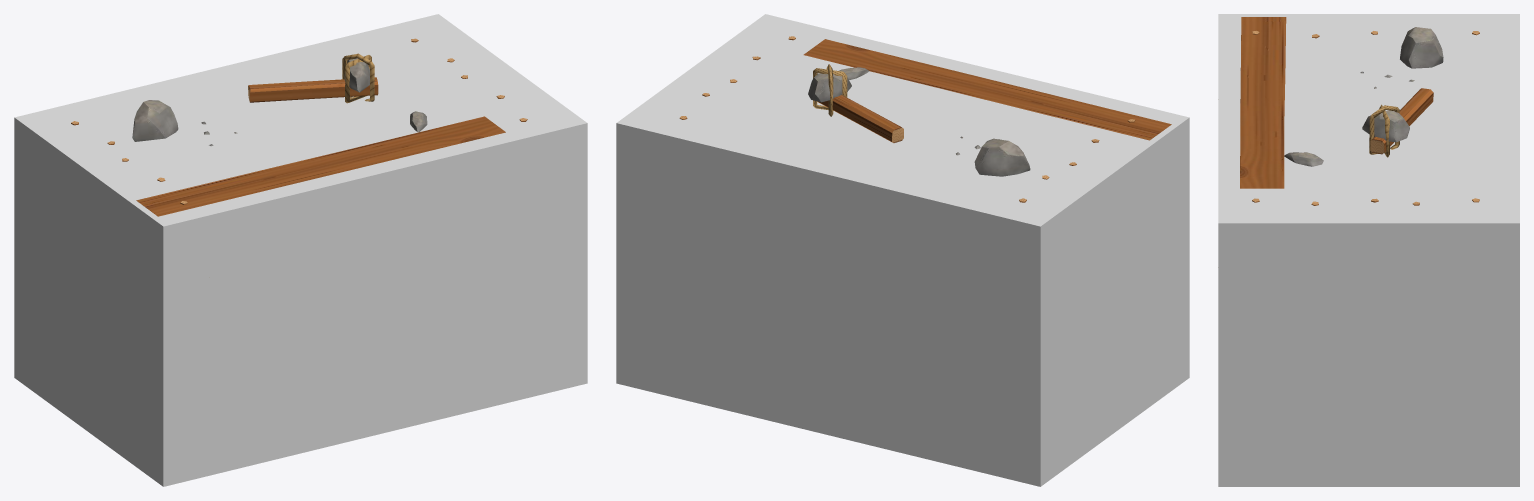
Rendered from IO_Workbench_A.glb.
The picture shows the model from 3 angles, left to right: view 1: azimuth 30°, elevation 25°; view 2: azimuth 150°, elevation 25°; view 3: azimuth 270°, elevation 25°; orthographic projection.
Visible parts, largest first — view 1: IO_Workbench_A_COL, IO_Workbench_A_LOD0, IO_Workbench_A_Prop_StoneHammer, IO_Workbench_A_Prop_StoneChunk; view 2: IO_Workbench_A_COL, IO_Workbench_A_LOD0, IO_Workbench_A_Prop_StoneHammer, IO_Workbench_A_Prop_StoneChunk; view 3: IO_Workbench_A_COL, IO_Workbench_A_LOD0, IO_Workbench_A_Prop_StoneHammer, IO_Workbench_A_Prop_StoneChunk, IO_Workbench_A_Prop_StoneBlade.
Part boxes in pixels (x1=…): IO_Workbench_A_COL: x1=14, y1=14, x2=587, y2=486; IO_Workbench_A_LOD0: x1=71, y1=38, x2=527, y2=216; IO_Workbench_A_Prop_StoneHammer: x1=248, y1=53, x2=378, y2=103; IO_Workbench_A_Prop_StoneChunk: x1=132, y1=100, x2=178, y2=141; IO_Workbench_A_COL: x1=616, y1=14, x2=1189, y2=486; IO_Workbench_A_LOD0: x1=679, y1=36, x2=1171, y2=202; IO_Workbench_A_Prop_StoneHammer: x1=808, y1=64, x2=903, y2=142; IO_Workbench_A_Prop_StoneChunk: x1=974, y1=138, x2=1030, y2=176; IO_Workbench_A_COL: x1=1218, y1=14, x2=1519, y2=486; IO_Workbench_A_LOD0: x1=1240, y1=17, x2=1479, y2=205; IO_Workbench_A_Prop_StoneHammer: x1=1362, y1=88, x2=1433, y2=157; IO_Workbench_A_Prop_StoneChunk: x1=1400, y1=27, x2=1443, y2=68; IO_Workbench_A_Prop_StoneBlade: x1=1284, y1=152, x2=1323, y2=166.
Size of what is drawn, in the model's own units: 1.5 by 1.03 by 0.9133.
3 materials, 3 textured.
